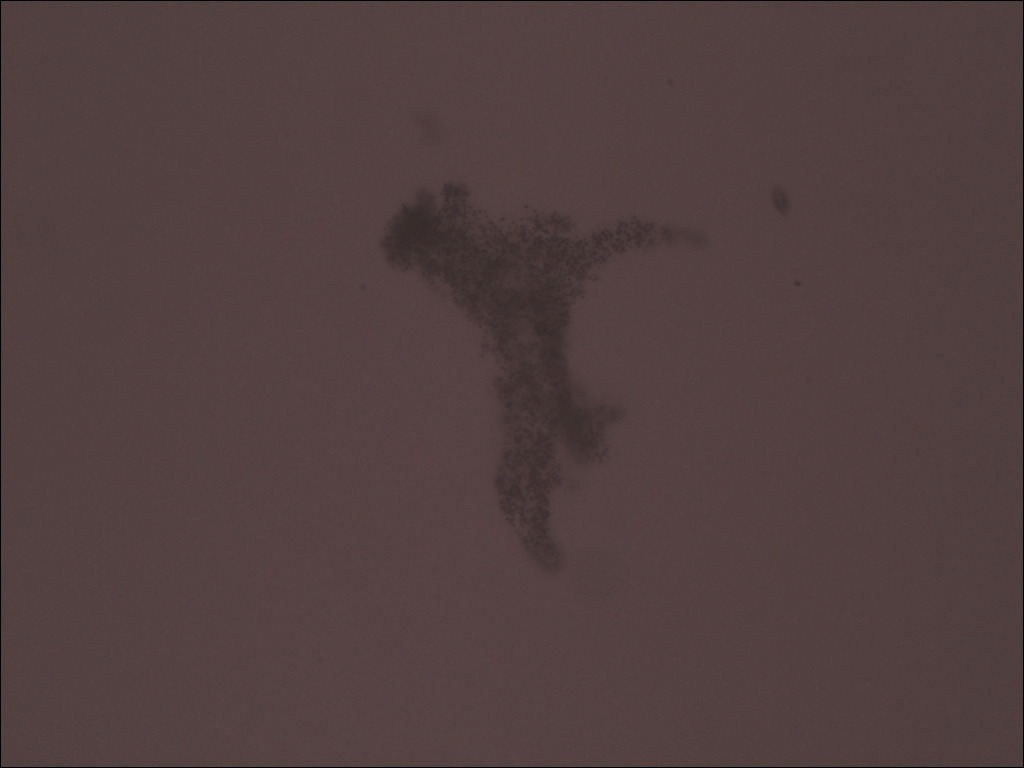amoeba: (374, 169, 724, 592)
